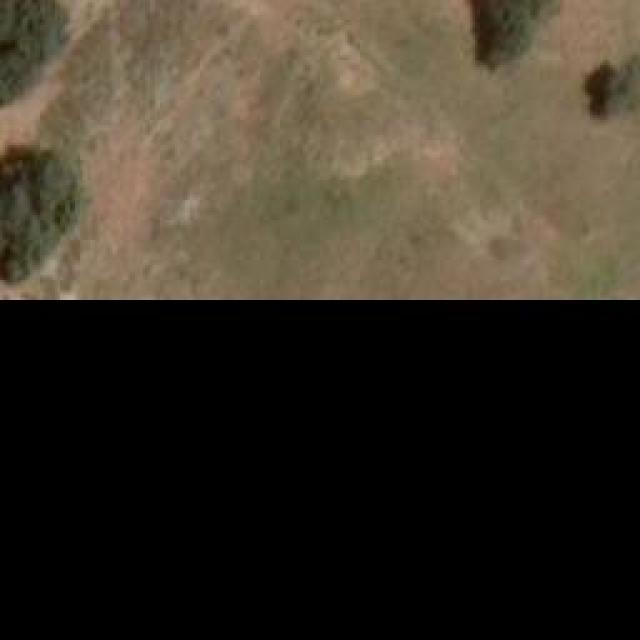Tree: (0, 148, 75, 273), (0, 0, 55, 98), (465, 0, 553, 60), (592, 60, 640, 118)
